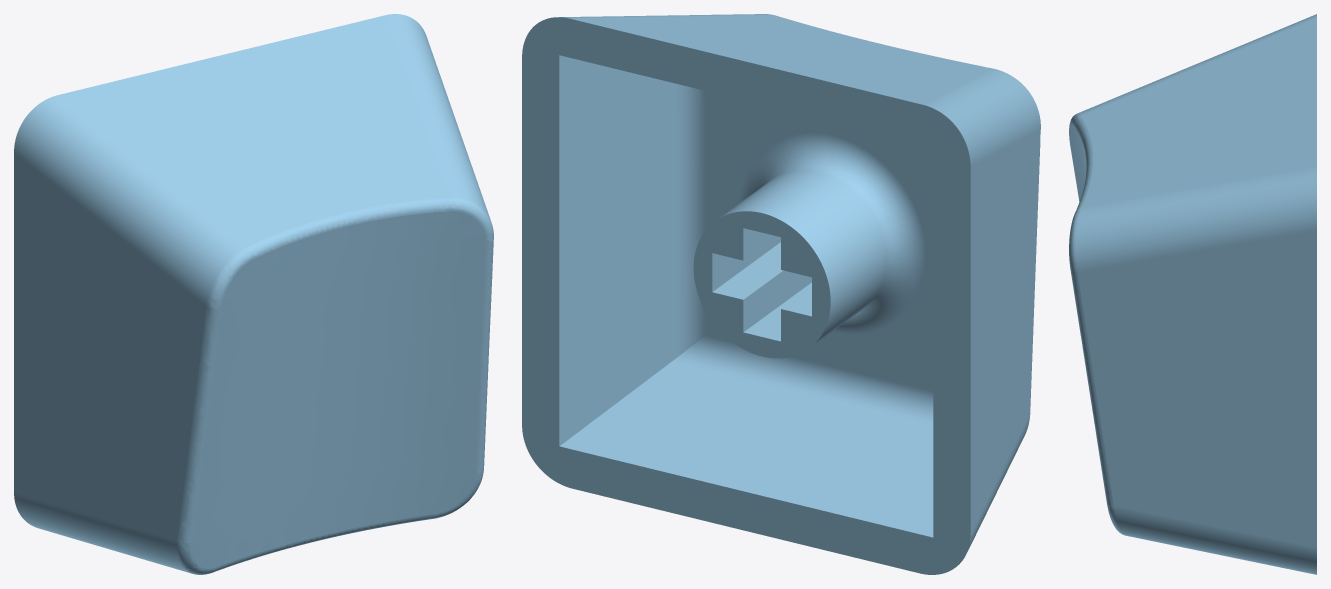
Rendered from keycap_v6.step.glb.
3 views of the same model, side by side, from view 1: azimuth 30°, elevation 25°; view 2: azimuth 150°, elevation 25°; view 3: azimuth 270°, elevation 25° (orthographic). The views are drawn at different scales.
Visible parts, largest first — view 1: o0; view 2: o0; view 3: o0.
Part boxes in pixels (left/top/right/bottom): o0: left=14, top=14, right=493, bottom=574; o0: left=522, top=14, right=1040, bottom=574; o0: left=1069, top=14, right=1316, bottom=574.
Bounding box in the file's own units: 0.018 × 0.018 × 0.01.
